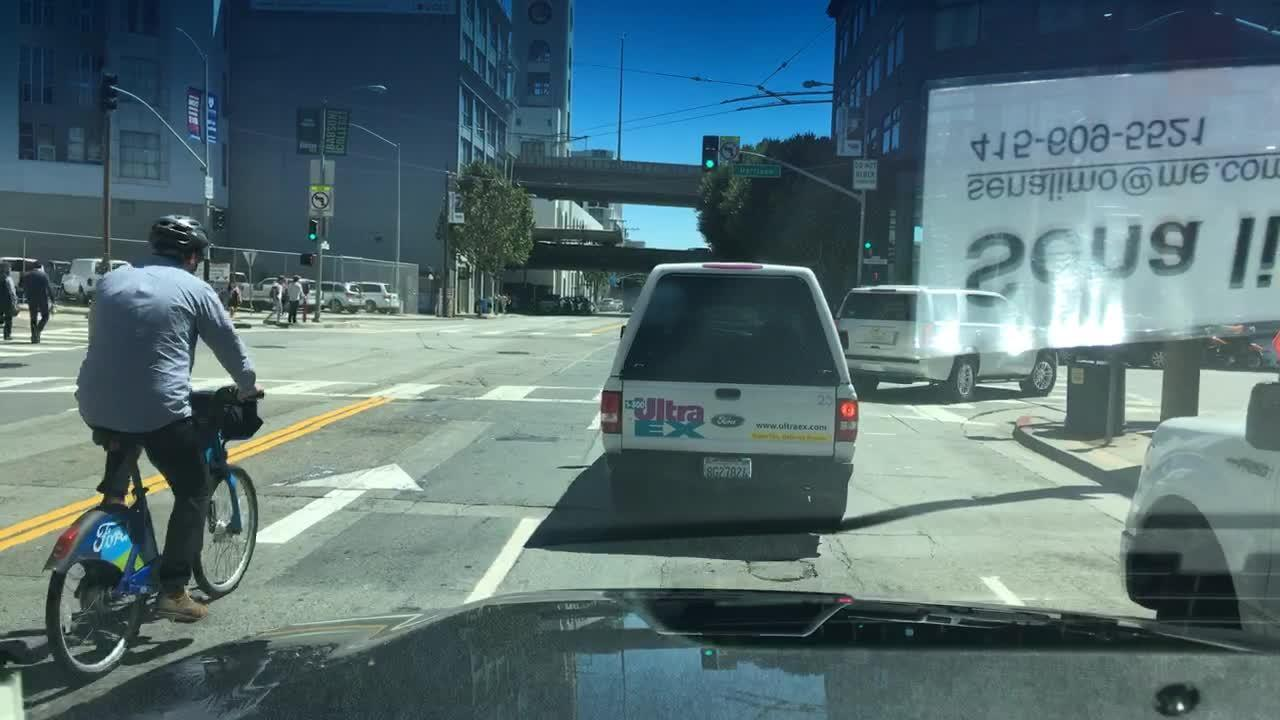ford: (705, 406, 751, 439)
